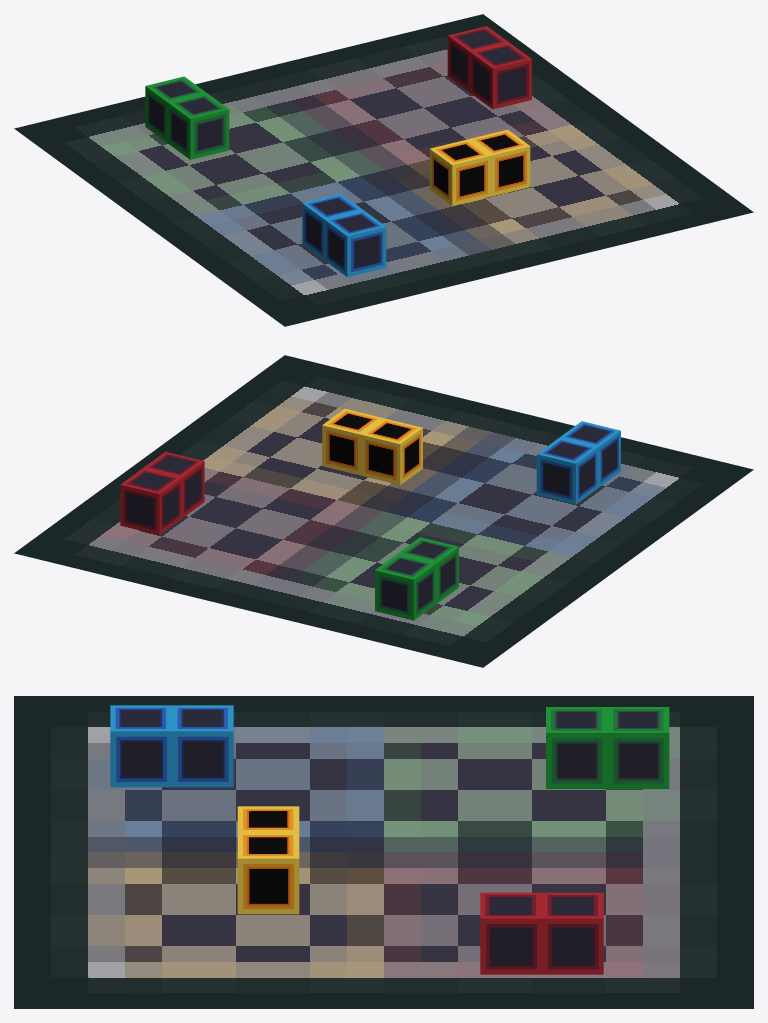
The model's file is sbattle1.gltf.
The picture shows the model from 3 angles, top to bottom: view 1: azimuth 30°, elevation 25°; view 2: azimuth 150°, elevation 25°; view 3: azimuth 270°, elevation 25°; orthographic projection. The views are drawn at different scales.
Parts seen in each view (by area): view 1: plane, blue (×4), yellow (×2), green (×2); view 2: plane, blue (×4), yellow (×2), green (×2); view 3: plane, blue (×4), green (×2), yellow (×2).
Part boxes in pixels (box(x1,y1,x2,y2)): plane: box(14, 14, 753, 326); blue (×4): box(302, 26, 531, 276); yellow (×2): box(429, 129, 530, 205); green (×2): box(145, 76, 229, 159); plane: box(14, 355, 753, 667); blue (×4): box(120, 421, 620, 534); yellow (×2): box(322, 409, 422, 484); green (×2): box(375, 537, 458, 620); plane: box(14, 696, 753, 1008); blue (×4): box(110, 705, 603, 974); green (×2): box(546, 707, 669, 788); yellow (×2): box(237, 806, 299, 914).
Size of the model in its own units: 3 by 0.25 by 3.
Materials: 5 (5 with a texture image).
